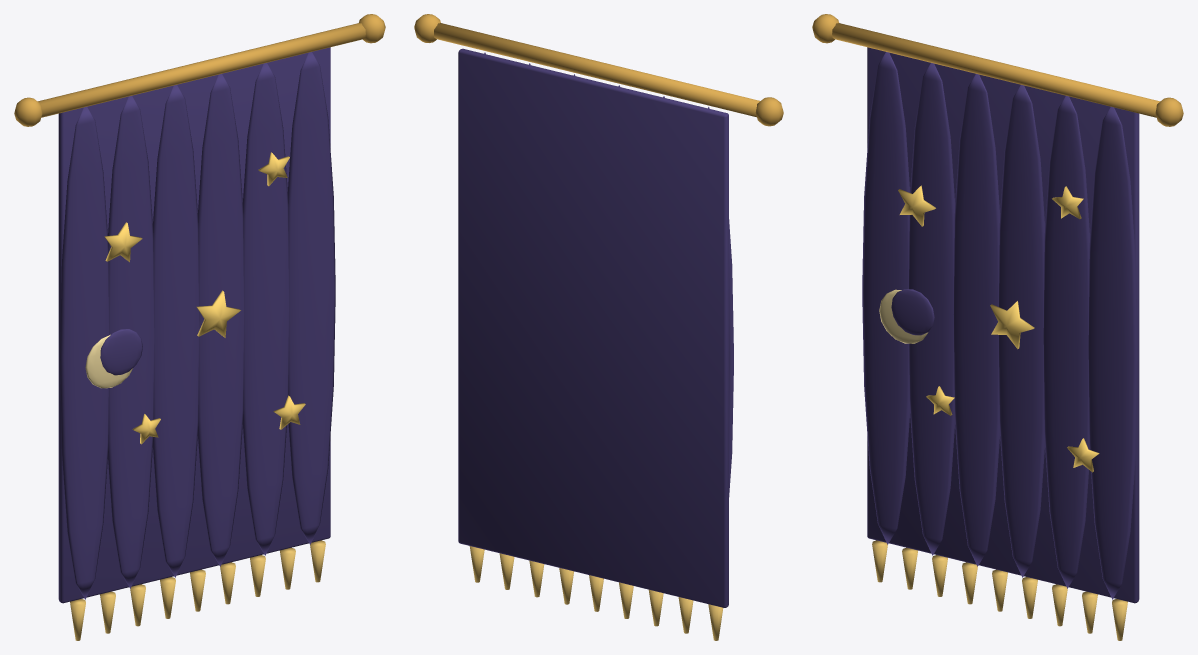
File: star-drape.glb
The picture shows the model from 3 angles, left to right: view 1: azimuth 30°, elevation 25°; view 2: azimuth 150°, elevation 25°; view 3: azimuth 330°, elevation 25°; orthographic projection.
Parts seen in each view (by area): view 1: drape, stars; view 2: drape; view 3: drape, stars.
Boxes of the visible parts, left/top/right/bottom form: drape: left=14, top=14, right=385, bottom=640; stars: left=85, top=152, right=305, bottom=444; drape: left=414, top=14, right=783, bottom=640; drape: left=812, top=14, right=1183, bottom=640; stars: left=879, top=185, right=1099, bottom=472.
Bounding box in the file's own units: 1.01 × 1.46 × 0.07.
